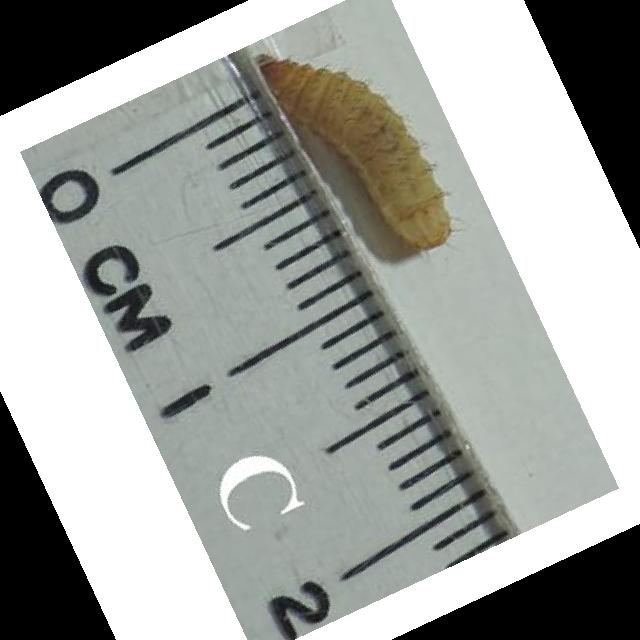Maggot: (250, 54, 454, 249)
